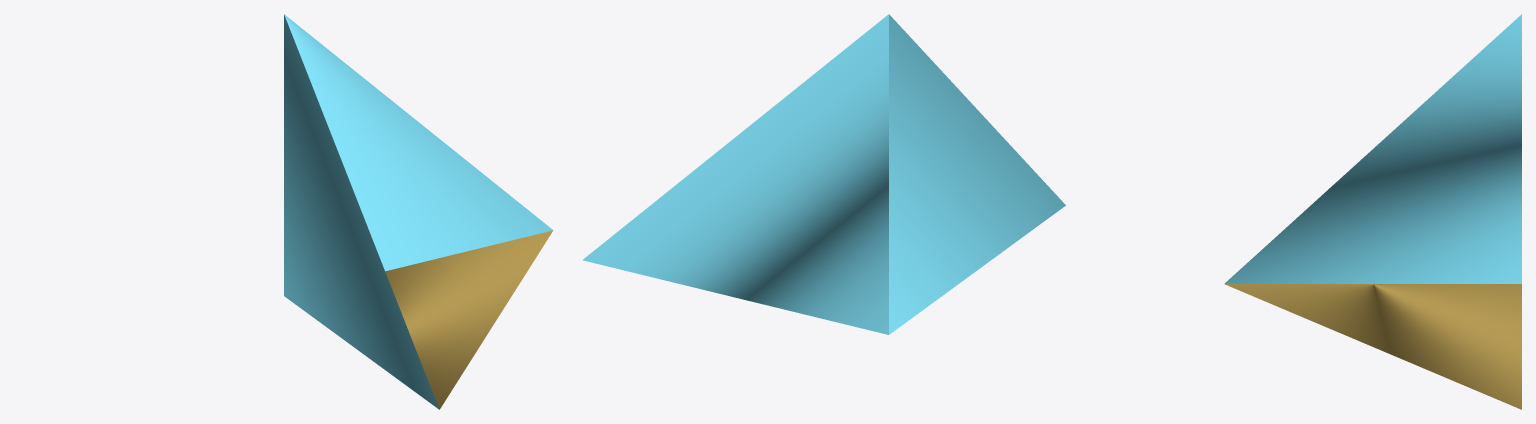
The model's file is torque_rotation.glb.
3 renders of one model, left to right at view 1: azimuth 30°, elevation 25°; view 2: azimuth 150°, elevation 25°; view 3: azimuth 270°, elevation 25°, orthographic. The views are drawn at different scales.
Parts seen in each view (by area): view 1: TorquePulley, RotatingDisk; view 2: TorquePulley; view 3: TorquePulley, RotatingDisk.
Boxes of the visible parts, x1=… form: TorquePulley: x1=284, y1=14, x2=552, y2=409; RotatingDisk: x1=385, y1=230, x2=553, y2=409; TorquePulley: x1=582, y1=14, x2=1065, y2=334; TorquePulley: x1=1224, y1=14, x2=1521, y2=283; RotatingDisk: x1=1224, y1=284, x2=1521, y2=409.
Size of the model in its own units: 7.38e+19 by 3.69e+19 by 3.69e+19.
